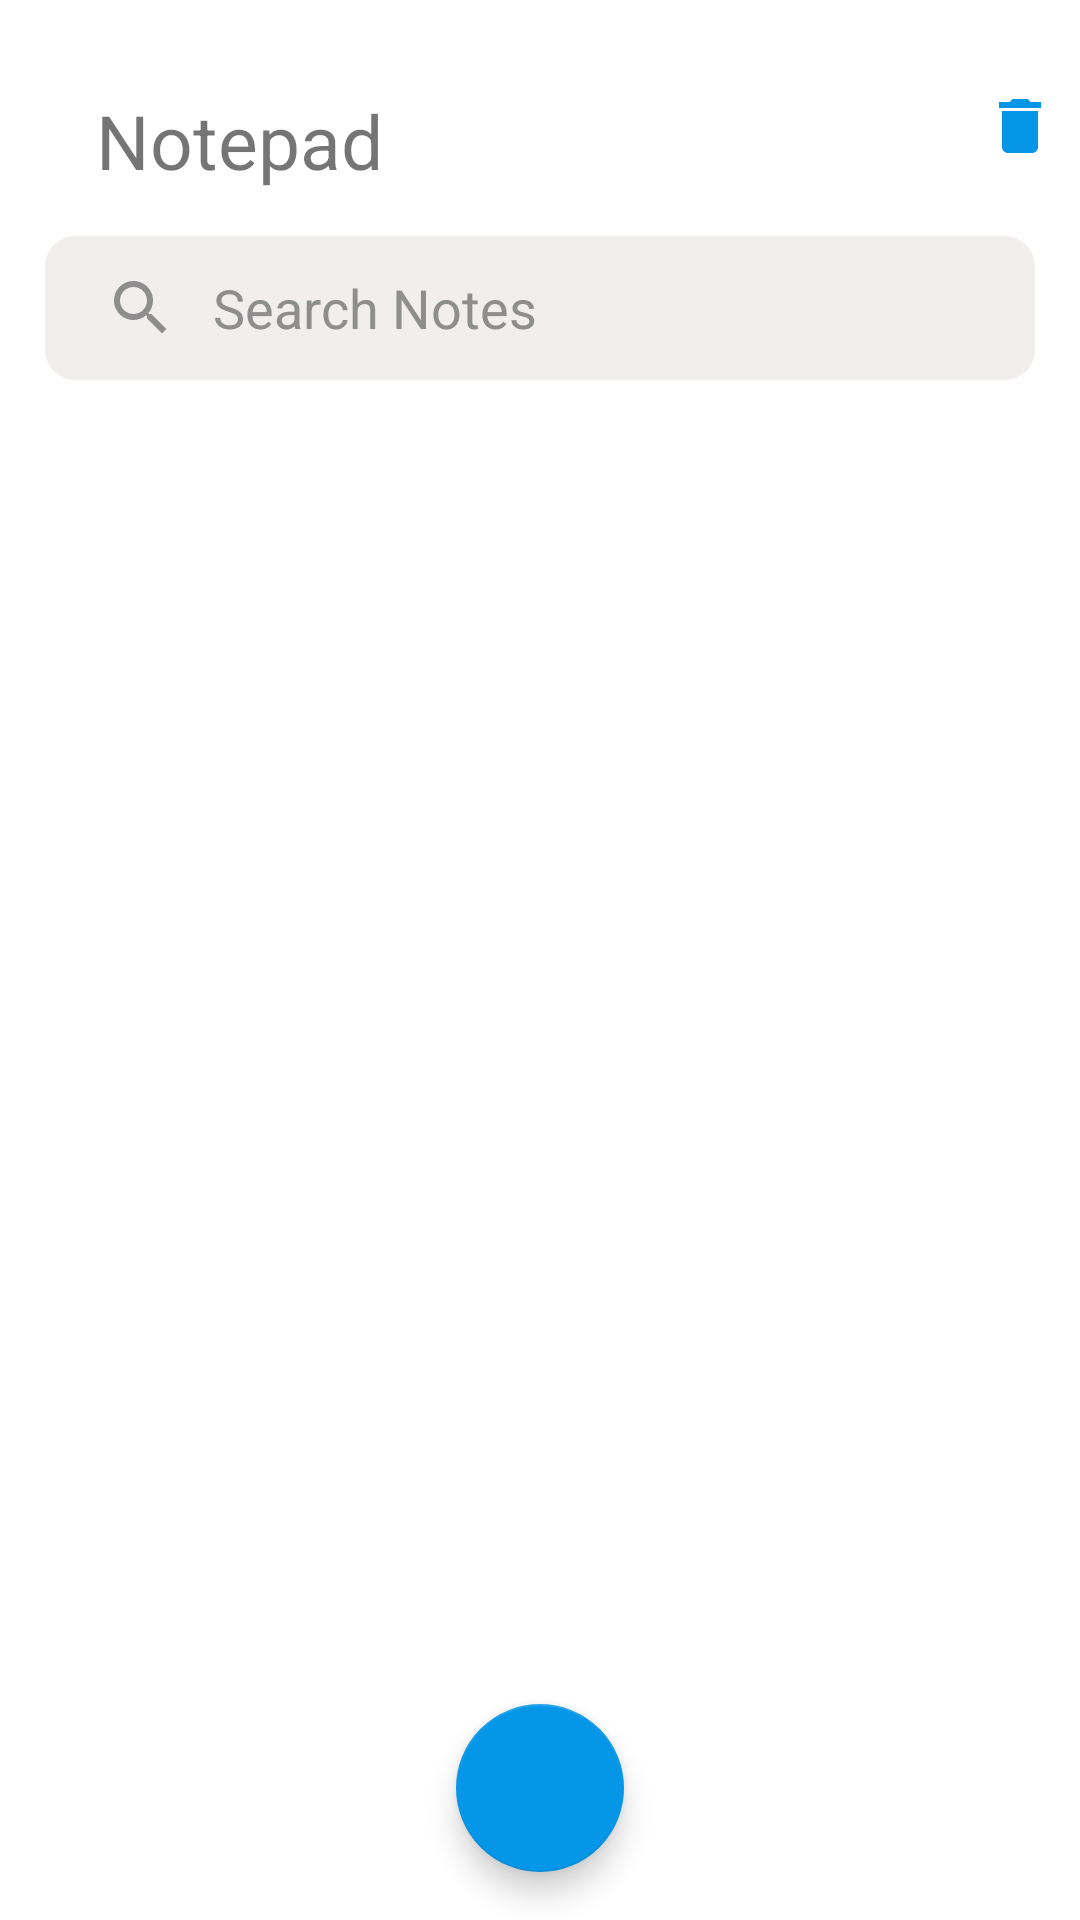

Locate icon controls on the screen. Image size 1080px×1920px, boxes as (x1, y1, x2, y2).
delete: (999, 99, 1041, 153)
